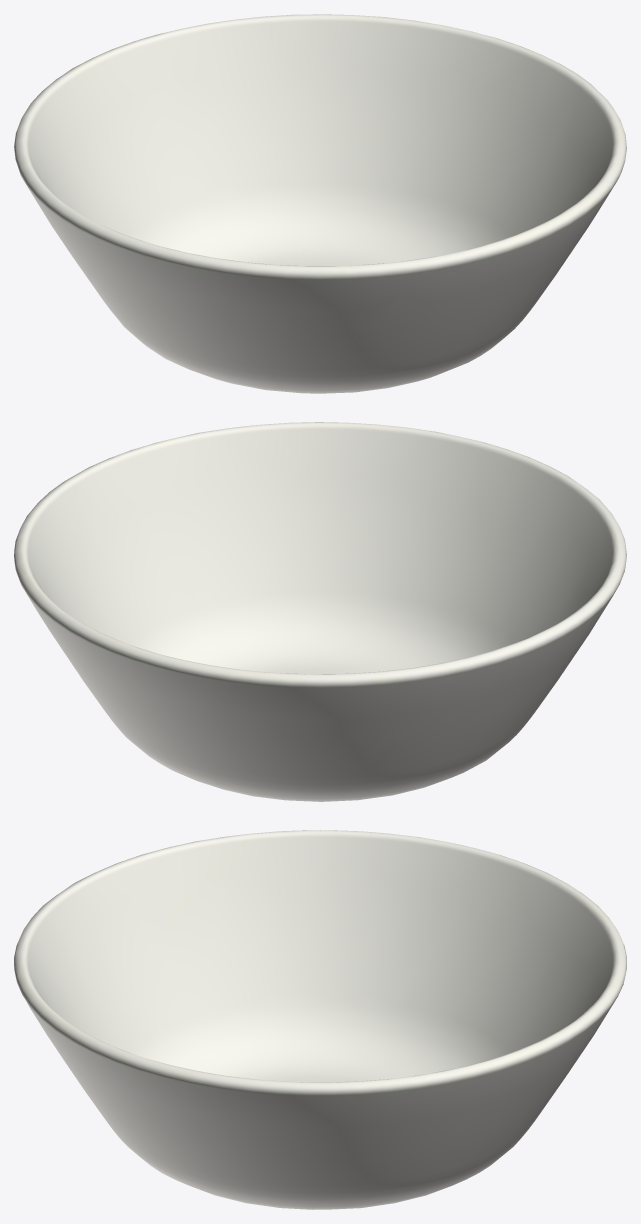
The model's file is oftast_miska_80258915.glb.
3 renders of one model, top to bottom at view 1: azimuth 30°, elevation 25°; view 2: azimuth 150°, elevation 25°; view 3: azimuth 270°, elevation 25°, orthographic.
Visible parts, largest first — view 1: oftast_miska_80258915; view 2: oftast_miska_80258915; view 3: oftast_miska_80258915.
Part boxes in pixels (<box>): oftast_miska_80258915: <box>14,14,626,393</box>; oftast_miska_80258915: <box>14,422,626,801</box>; oftast_miska_80258915: <box>14,830,626,1209</box>.
Size of the model in its own units: 0.148 by 0.0501 by 0.1481.
1 material, 1 textured.
